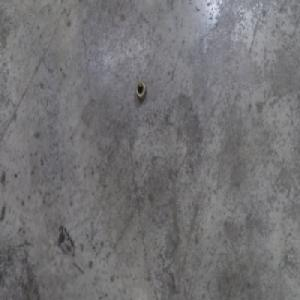Nut: (135, 79, 147, 103)
